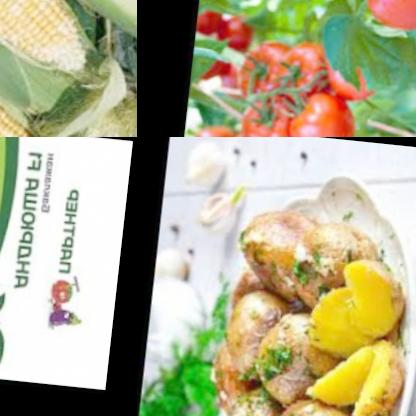corn: (0, 0, 61, 137), (0, 0, 116, 68)
garlic: (195, 171, 249, 231), (174, 137, 231, 192)
potato: (305, 264, 416, 405), (200, 281, 287, 405), (291, 210, 382, 319), (229, 199, 317, 310), (252, 305, 332, 405), (228, 379, 306, 416), (278, 387, 370, 416)
tomato: (233, 33, 301, 97), (276, 27, 335, 100), (285, 86, 363, 137), (326, 39, 387, 104), (198, 1, 264, 55), (237, 89, 306, 137), (190, 116, 248, 137)
